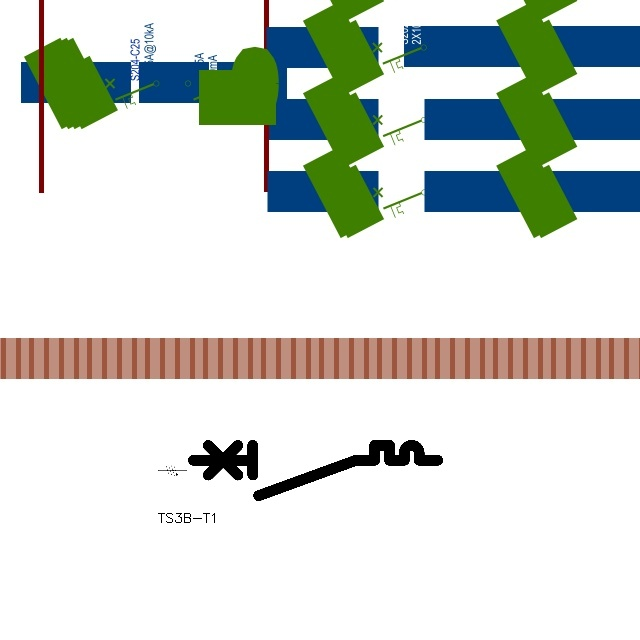interruptor_termomagnetico: (187, 439, 444, 502)
